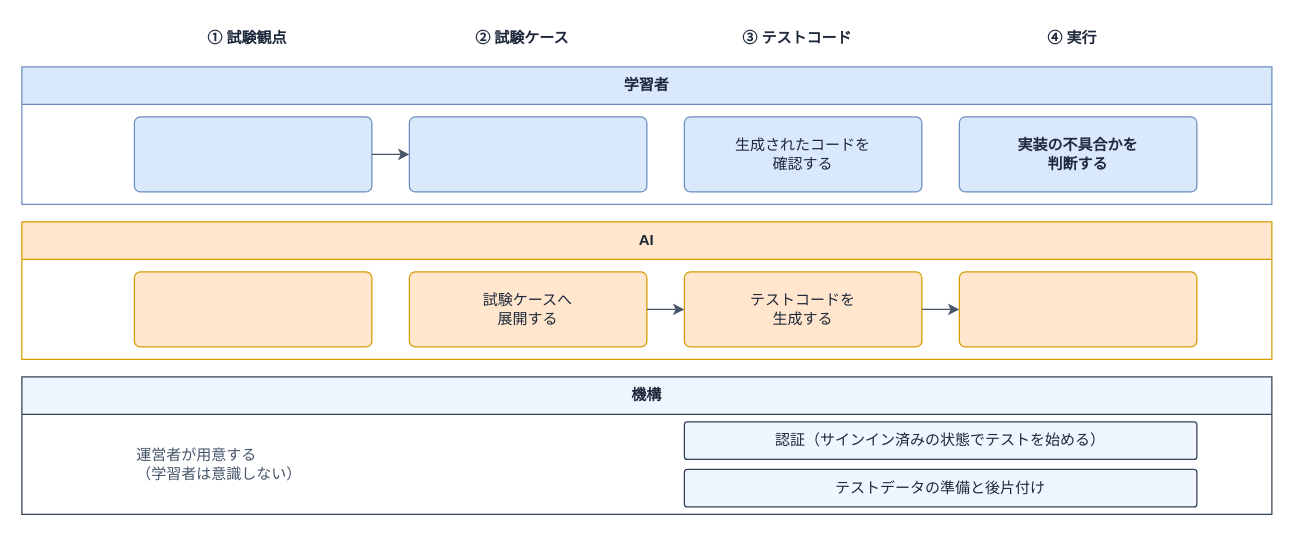
Some shapes in this 1294 by 536 pixel diagram are drawn without their labels. The centre of each missing label's shape, as x and y in pixels:
"仕様を読み、 何を確認するか決める" goes at pixel 252 154.
"実行し、失敗を 切り分けて直す" goes at pixel 1077 309.
"展開結果を 一覧で確認する" goes at pixel 527 154.
"観点の洗い出しを 補助する（スキル）" goes at pixel 252 309.
